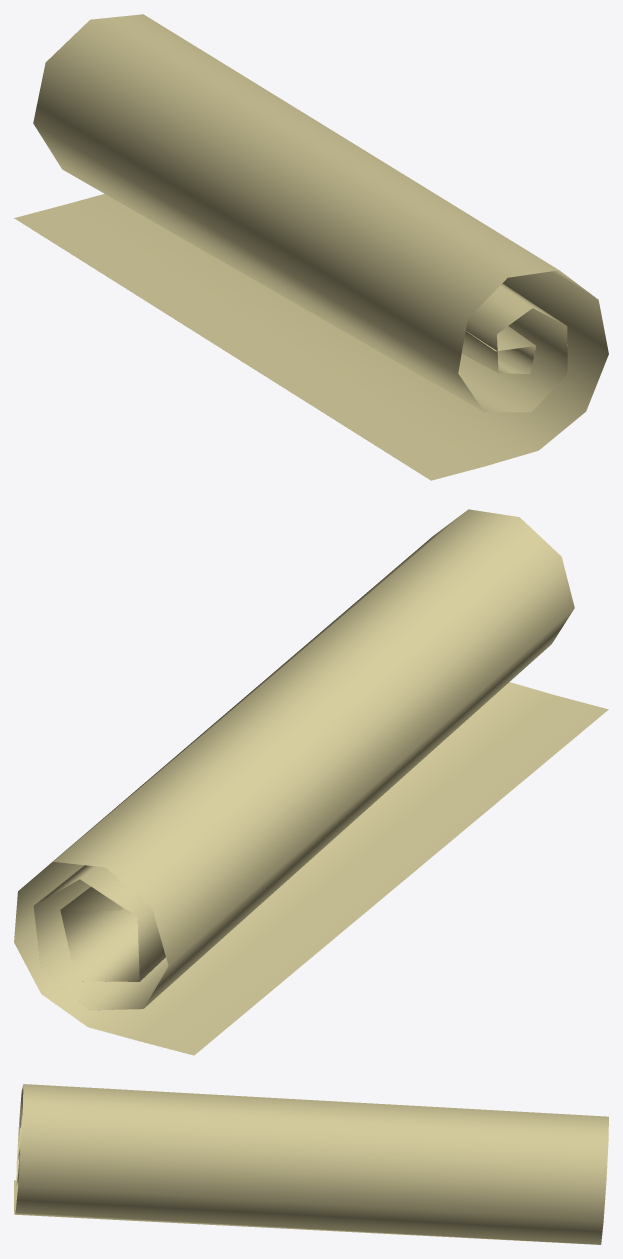
File: Rolled Up Single Scroll 001.FBX
3 renders of one model, top to bottom at view 1: azimuth 30°, elevation 25°; view 2: azimuth 150°, elevation 25°; view 3: azimuth 270°, elevation 25°, orthographic. The views are drawn at different scales.
Parts seen in each view (by area): view 1: Rolled Up Single Scroll v001; view 2: Rolled Up Single Scroll v001; view 3: Rolled Up Single Scroll v001.
Boxes of the visible parts, x1,y1,x2,y2 form: Rolled Up Single Scroll v001: (14,14,608,480); Rolled Up Single Scroll v001: (14,509,608,1055); Rolled Up Single Scroll v001: (14,1084,608,1244).
Size of the model in its own units: 0.0789 by 0.0918 by 0.3198.
